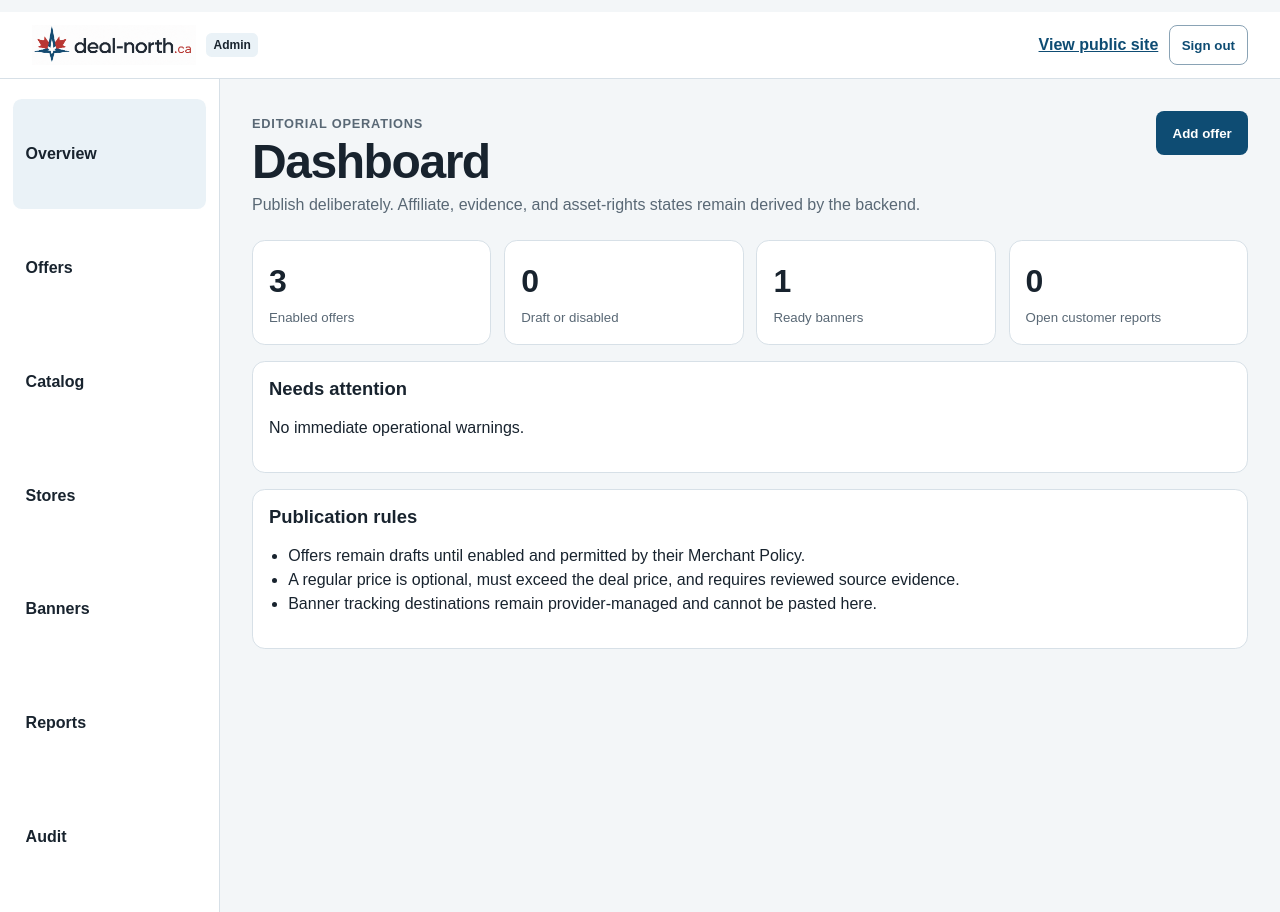
Test: AdminPanel › provides category and store management without a standalone Brands screen
Step 1. Click the button "Catalog" → (110, 382), box [13,327,206,437]
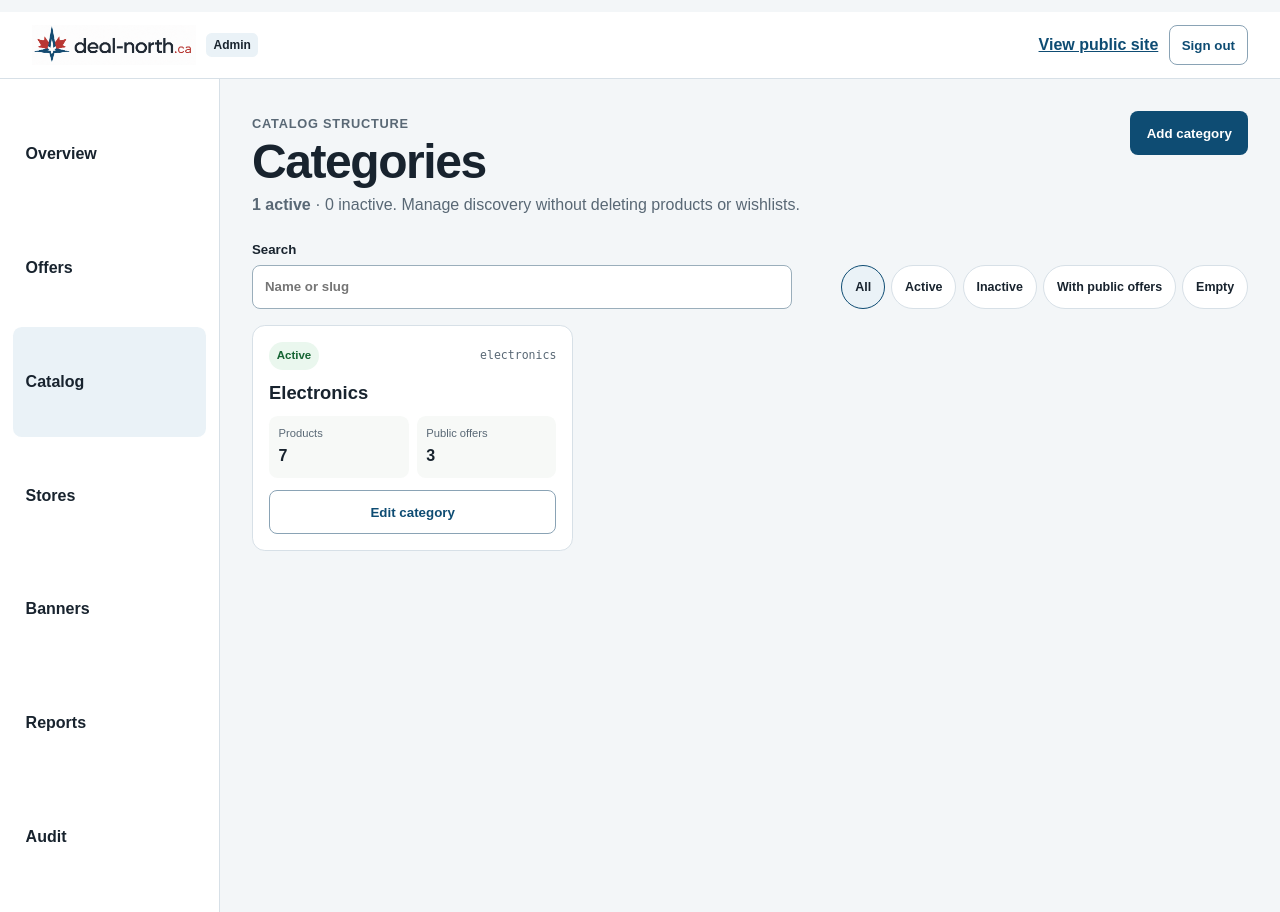
Now the heading "Categories" is shown, box [252,135,486,188]
Now the heading "Electronics" is shown, box [269,382,368,403]
Step 2. Click the button "Edit category" → (413, 512), box [269,490,556,534]
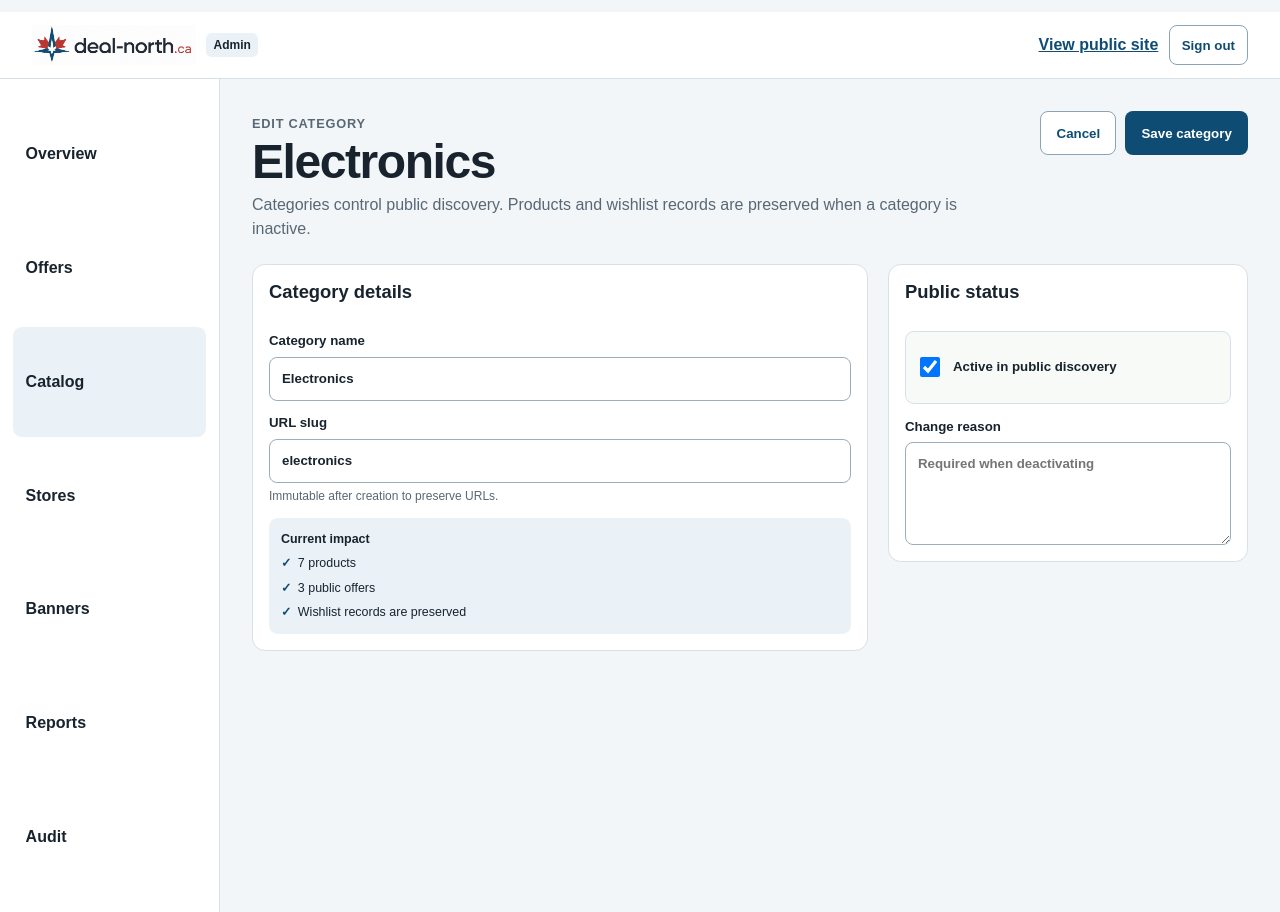
Now the field showing "electronics" has attribute readonly, box [269,439,851,483]
Step 3. Click the button "Stores" → (110, 496), box [13,441,206,550]
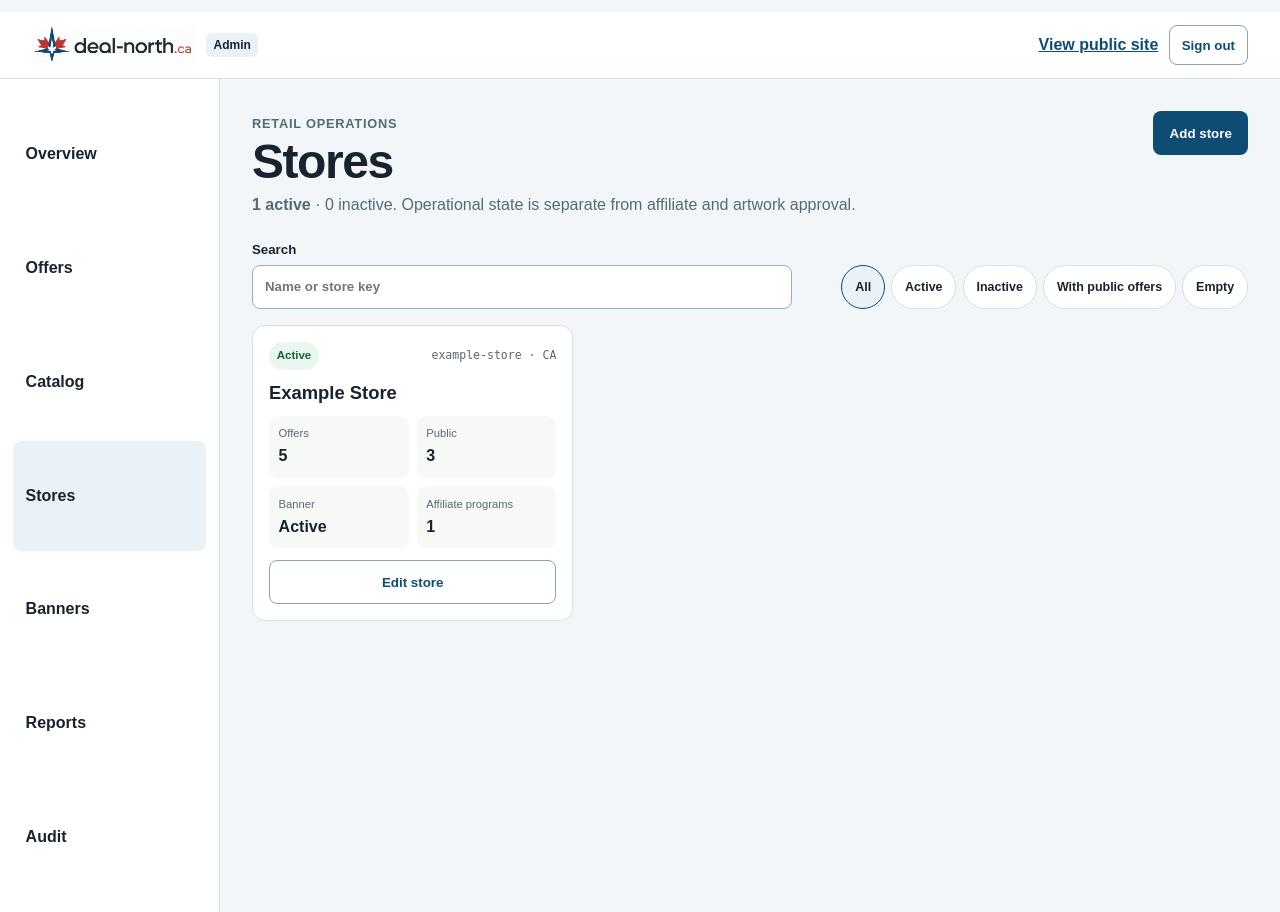
Now the heading "Stores" is shown, box [252,135,393,188]
Step 4. Click the button "Edit store" → (413, 582), box [269,560,556,604]
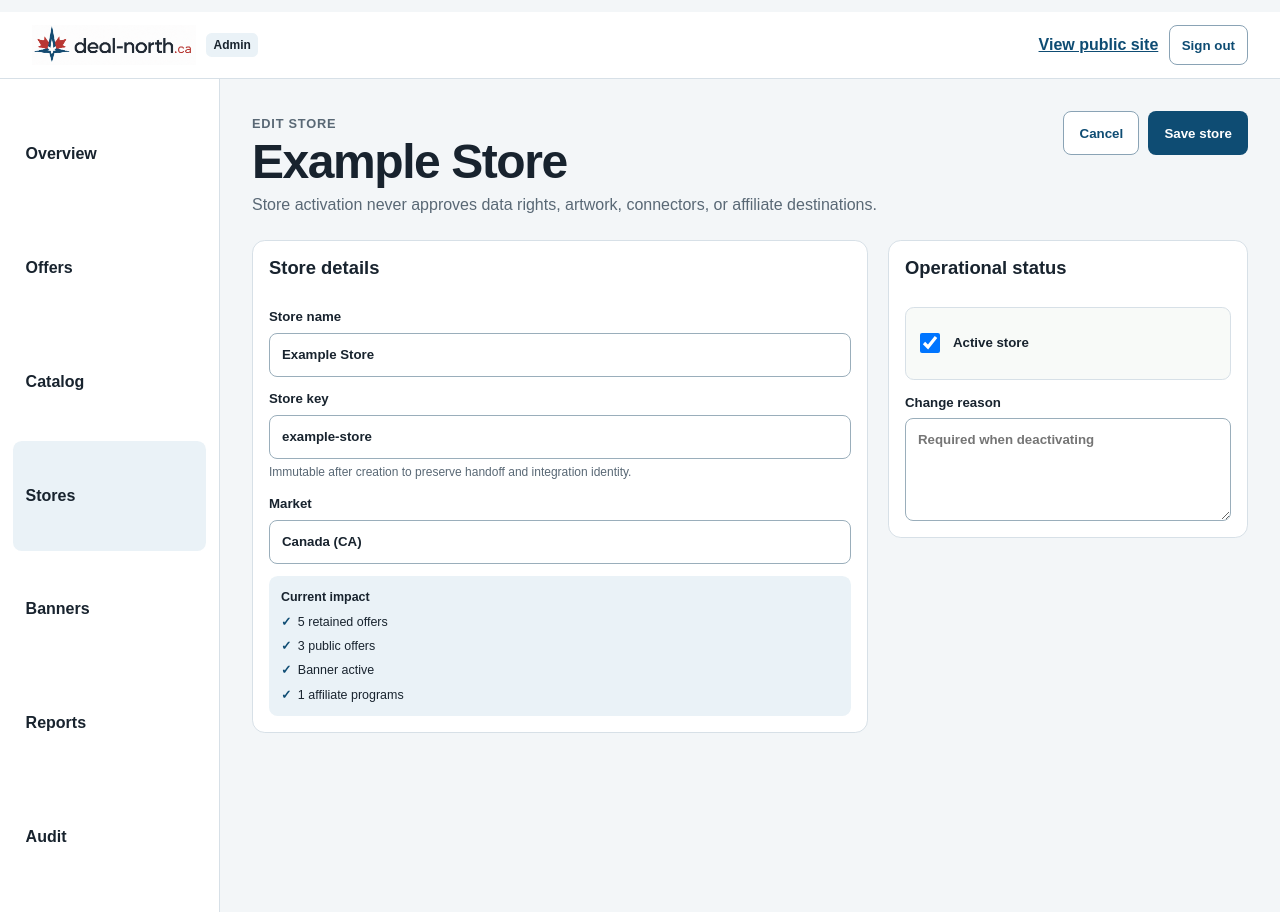
Now the text "activation never approves data rights" is shown, box [252,196,877,213]
